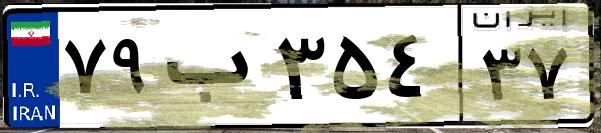3: (270, 28, 330, 110), (475, 38, 525, 113)
4: (385, 28, 445, 110)
5: (330, 28, 385, 110)
7: (57, 26, 110, 100), (525, 38, 570, 115)
9: (110, 28, 158, 98)
ب: (158, 20, 270, 120)
